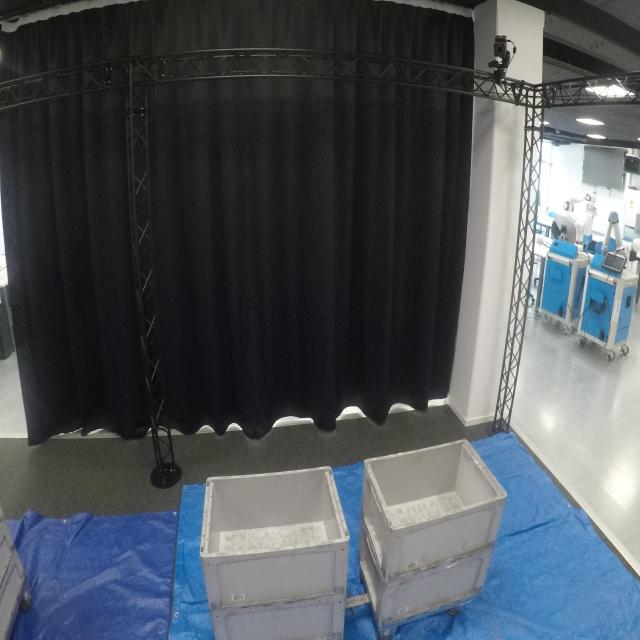Box4G: (186, 462, 352, 614), (356, 431, 510, 585), (357, 523, 504, 629), (207, 586, 348, 640)
